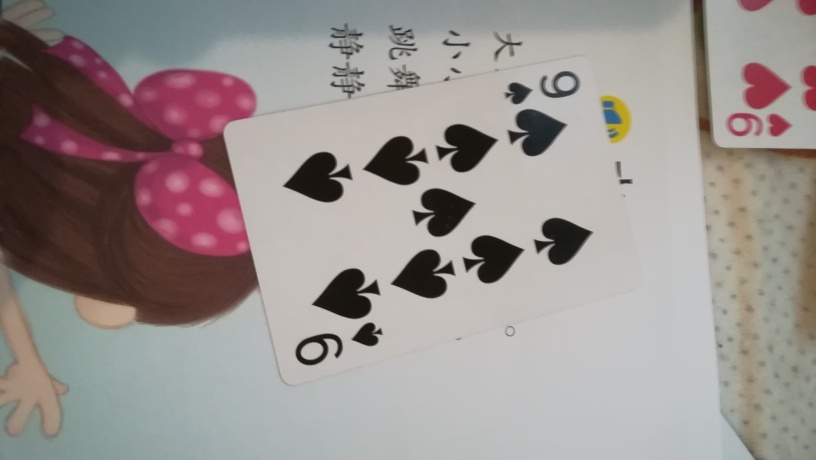ht 9: (220, 53, 647, 389)
